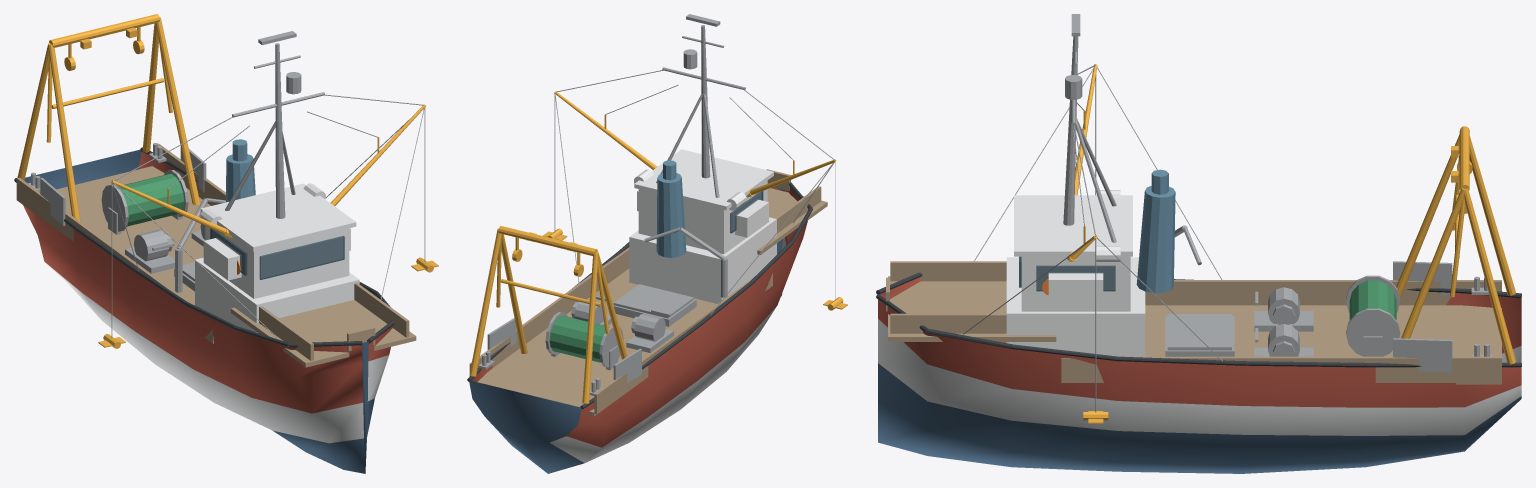
Rendered from fishing_trawler.glb.
The picture shows the model from 3 angles, left to right: view 1: azimuth 30°, elevation 25°; view 2: azimuth 150°, elevation 25°; view 3: azimuth 270°, elevation 25°; orthographic projection. The views are drawn at different scales.
Visible parts, largest first — view 1: Trawler_Hull, Trawler_Wheelhouse, Trawler_Decks_Bulwarks, Trawler_A_Frame_Gantry, Trawler_Machinery, Trawler_Mast, Trawler_Windows, Trawler_Nets, Trawler_Boom_Rigging, Trawler_RubRails, Trawler_Outrigger_Booms, Trawler_Smokestack; view 2: Trawler_Hull, Trawler_Wheelhouse, Trawler_Decks_Bulwarks, Trawler_Machinery, Trawler_A_Frame_Gantry, Trawler_Mast, Trawler_Smokestack, Trawler_Nets, Trawler_Boom_Rigging, Trawler_Outrigger_Booms, Trawler_RubRails; view 3: Trawler_Hull, Trawler_Decks_Bulwarks, Trawler_Wheelhouse, Trawler_Machinery, Trawler_A_Frame_Gantry, Trawler_Smokestack, Trawler_RubRails, Trawler_Mast, Trawler_Boom_Rigging, Trawler_Nets, Trawler_Windows, Trawler_Outrigger_Booms.
Part boxes in pixels (bbox=[...]): Trawler_Hull: bbox=[23, 149, 392, 473]; Trawler_Wheelhouse: bbox=[195, 183, 359, 332]; Trawler_Decks_Bulwarks: bbox=[16, 143, 416, 367]; Trawler_A_Frame_Gantry: bbox=[17, 14, 200, 221]; Trawler_Machinery: bbox=[28, 143, 225, 292]; Trawler_Mast: bbox=[225, 31, 324, 218]; Trawler_Windows: bbox=[210, 228, 344, 279]; Trawler_Nets: bbox=[118, 173, 184, 226]; Trawler_Boom_Rigging: bbox=[111, 94, 425, 337]; Trawler_RubRails: bbox=[14, 147, 394, 347]; Trawler_Outrigger_Booms: bbox=[98, 104, 438, 348]; Trawler_Smokestack: bbox=[226, 139, 255, 202]; Trawler_Hull: bbox=[469, 187, 808, 473]; Trawler_Wheelhouse: bbox=[629, 149, 776, 303]; Trawler_Decks_Bulwarks: bbox=[469, 169, 827, 416]; Trawler_Machinery: bbox=[478, 227, 727, 395]; Trawler_A_Frame_Gantry: bbox=[469, 226, 627, 403]; Trawler_Mast: bbox=[656, 14, 745, 197]; Trawler_Smokestack: bbox=[656, 160, 686, 257]; Trawler_Nets: bbox=[549, 315, 609, 362]; Trawler_Boom_Rigging: bbox=[554, 70, 835, 315]; Trawler_Outrigger_Booms: bbox=[543, 91, 847, 310]; Trawler_RubRails: bbox=[467, 182, 812, 409]; Trawler_Hull: bbox=[878, 277, 1521, 473]; Trawler_Decks_Bulwarks: bbox=[886, 261, 1501, 384]; Trawler_Wheelhouse: bbox=[1006, 195, 1145, 356]; Trawler_Machinery: bbox=[1165, 225, 1492, 372]; Trawler_A_Frame_Gantry: bbox=[1396, 126, 1515, 364]; Trawler_Smokestack: bbox=[1136, 169, 1175, 293]; Trawler_RubRails: bbox=[876, 272, 1521, 367]; Trawler_Mast: bbox=[1063, 14, 1116, 242]; Trawler_Boom_Rigging: bbox=[963, 64, 1222, 412]; Trawler_Nets: bbox=[1349, 280, 1396, 320]; Trawler_Windows: bbox=[1019, 256, 1115, 291]; Trawler_Outrigger_Booms: bbox=[1067, 64, 1108, 423].
Bounding box in the file's own units: 17.5 × 20.08 × 26.09.
